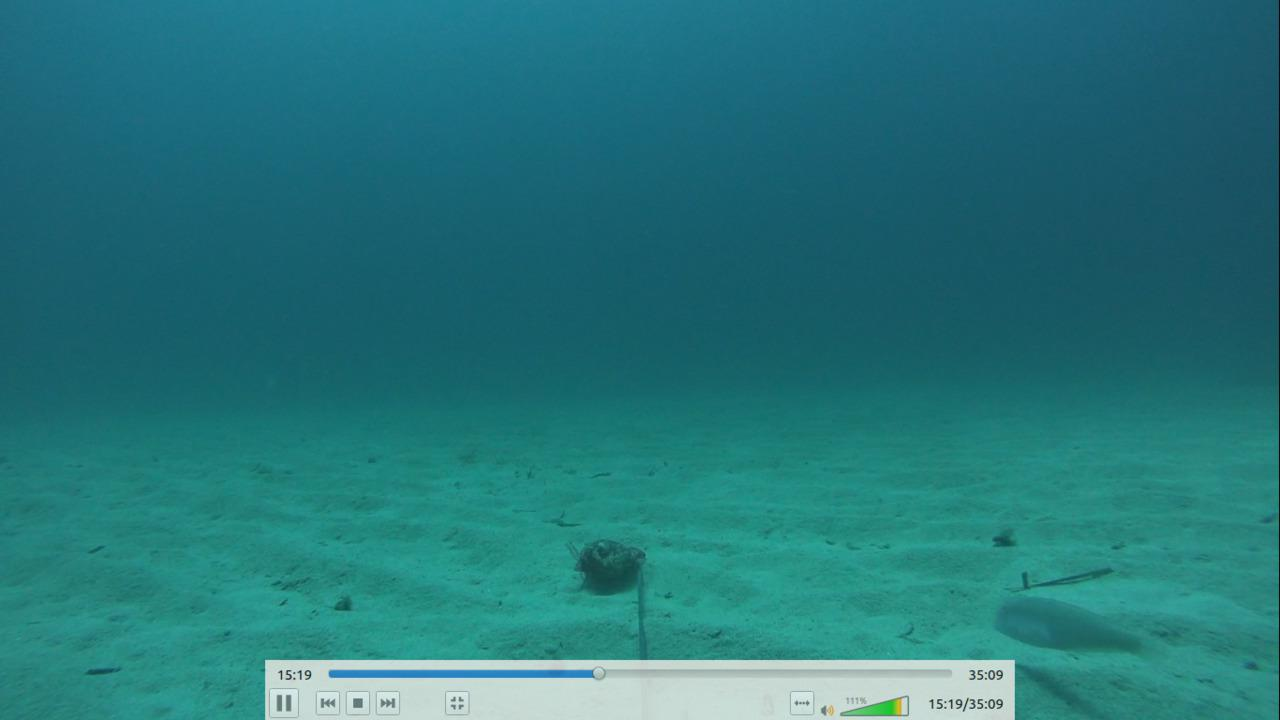raor: (989, 588, 1154, 662)
